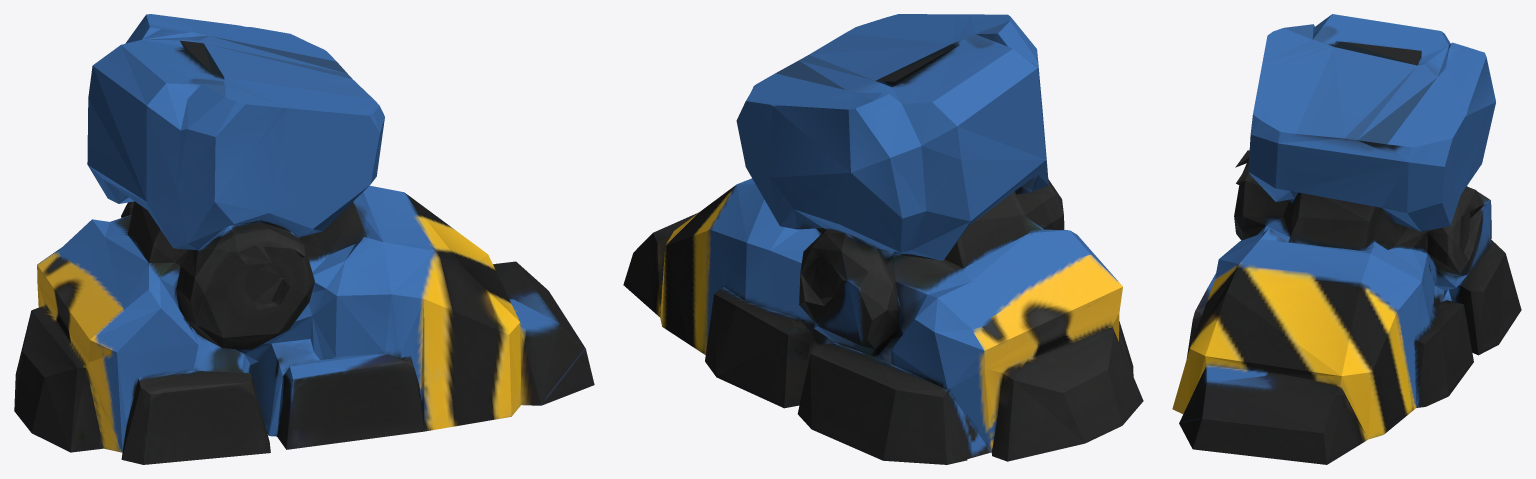
The model's file is SM_HeavyDebris_LowerLeg_R.fbx.
The picture shows the model from 3 angles, left to right: view 1: azimuth 30°, elevation 25°; view 2: azimuth 150°, elevation 25°; view 3: azimuth 270°, elevation 25°; orthographic projection. The views are drawn at different scales.
Visible parts, largest first — view 1: SM_HeavyDebris_LowerLeg_R; view 2: SM_HeavyDebris_LowerLeg_R; view 3: SM_HeavyDebris_LowerLeg_R.
Part boxes in pixels (<box>): SM_HeavyDebris_LowerLeg_R: <box>14,14,594,464</box>; SM_HeavyDebris_LowerLeg_R: <box>623,14,1143,464</box>; SM_HeavyDebris_LowerLeg_R: <box>1172,14,1521,464</box>.
Size of the model in its own units: 113 by 70.42 by 77.02.
1 material, 1 textured.
